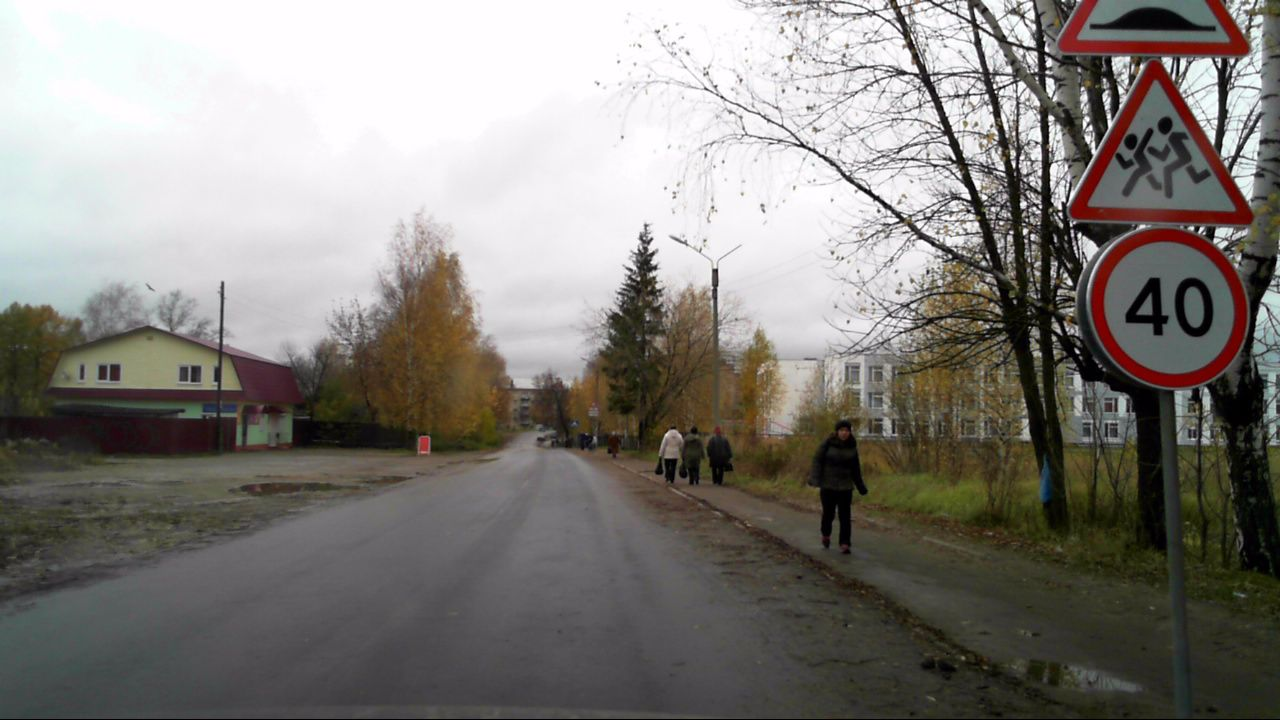speed_warning_40: (1085, 226, 1250, 391)
